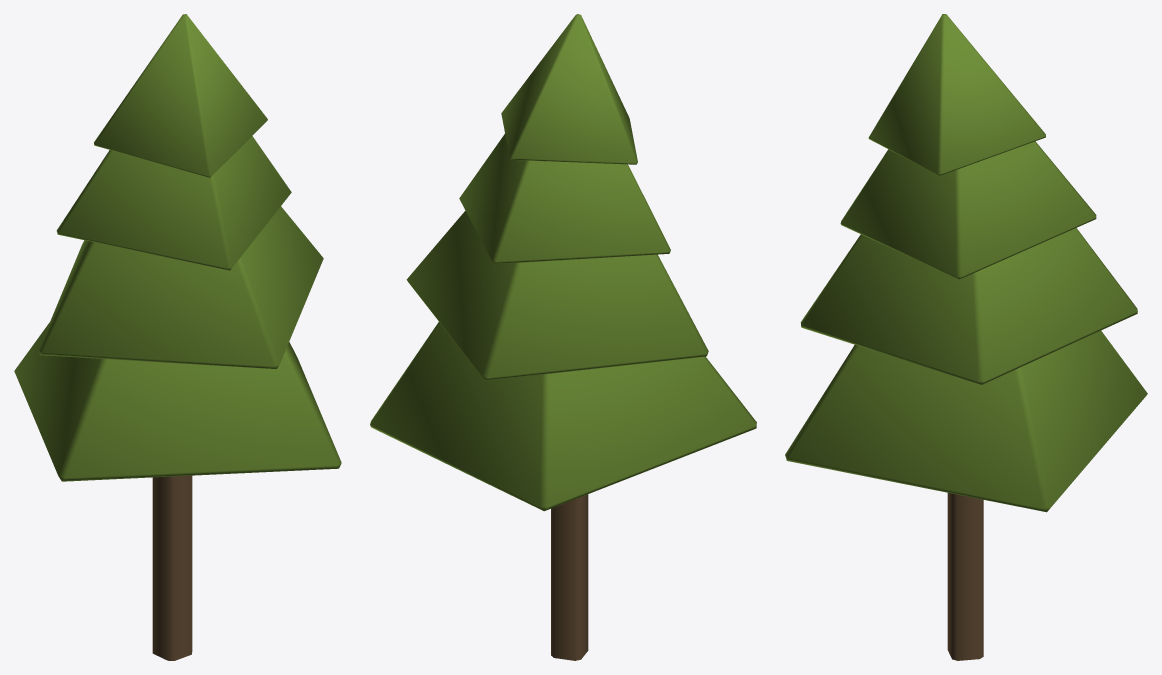
Rendered from PRO_Tree_02.FBX.
3 renders of one model, left to right at view 1: azimuth 30°, elevation 25°; view 2: azimuth 150°, elevation 25°; view 3: azimuth 270°, elevation 25°, orthographic. The views are drawn at different scales.
Parts seen in each view (by area): view 1: PRO_Tree_02; view 2: PRO_Tree_02; view 3: PRO_Tree_02.
Boxes of the visible parts, x1,y1,x2,y2 form: PRO_Tree_02: [14, 14, 341, 660]; PRO_Tree_02: [370, 14, 756, 660]; PRO_Tree_02: [785, 14, 1147, 660].
Bounding box in the file's own units: 2.55 × 4.97 × 2.56.
